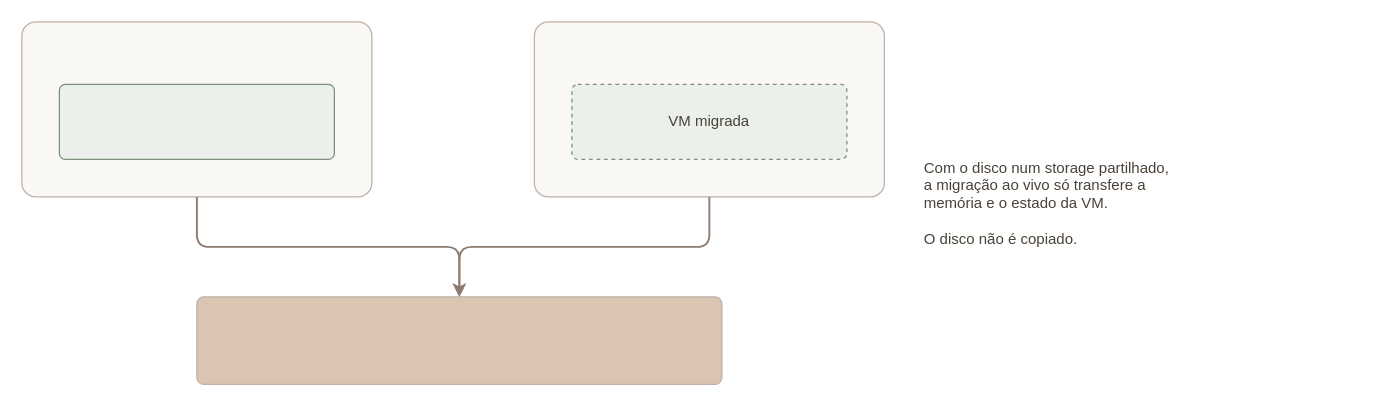
The diagram is 1381 pixels wide and 406 high, and some of its shapes have lost their labels. The shapes that lost their labels are listed below. From the top down, each one's box as (x1, y1, x2, y2) in pixels, then its label:
(58, 83, 334, 159): VM a correr
(196, 296, 722, 384): Storage partilhado NFS, iSCSI ou Ceph
